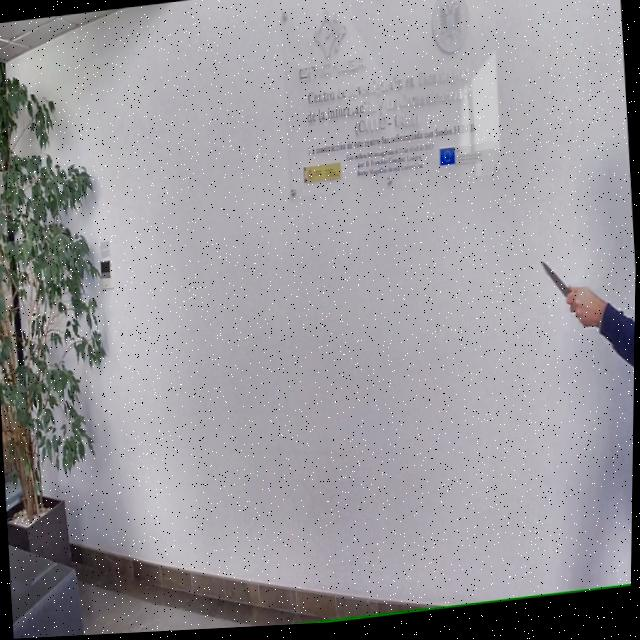knife: (534, 253, 575, 307)
